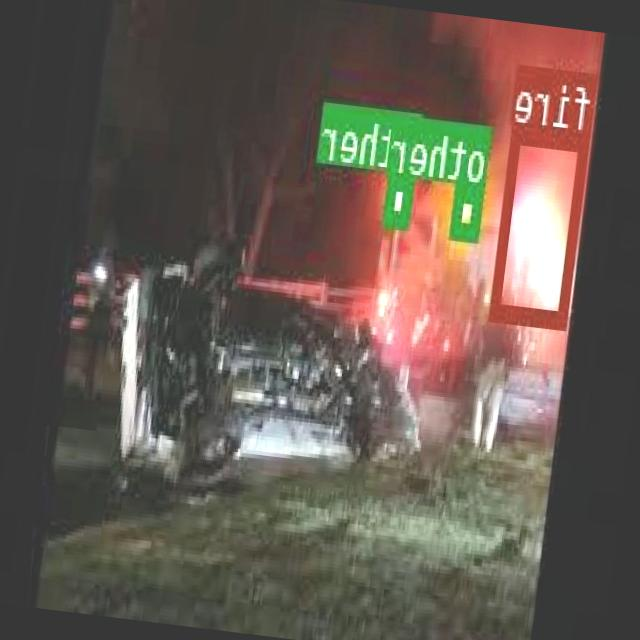fire: (492, 123, 591, 327)
